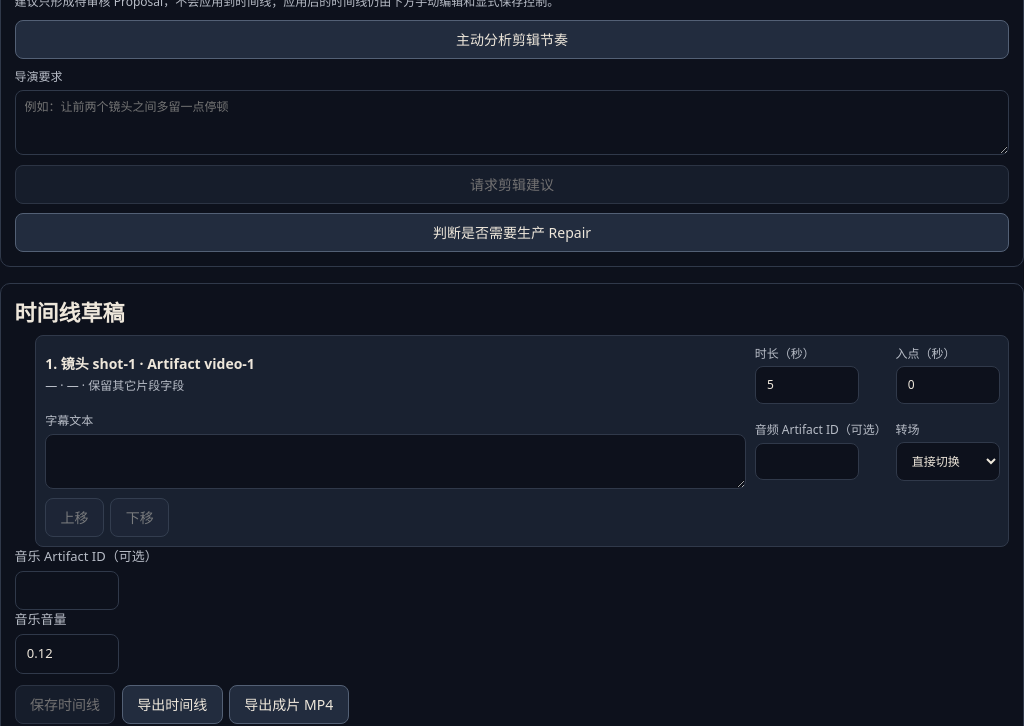
Scenario: refreshes the session summary after saving a new timeline version
This screenshot has width=1024, height=726.
(page scrolled)
Replace the text in the number field named "镜头 1 时长" with "4.5": (807, 385) [755,366,859,404]
(page scrolled)
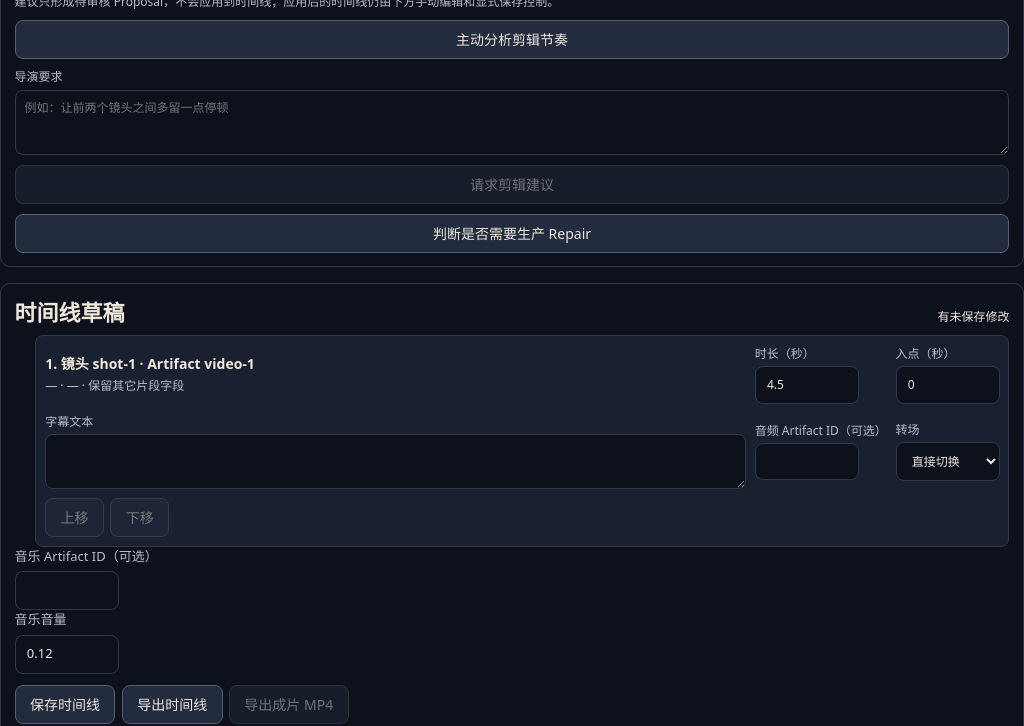
Click the button "保存时间线": (65, 704) [15,685,115,724]
(page scrolled)
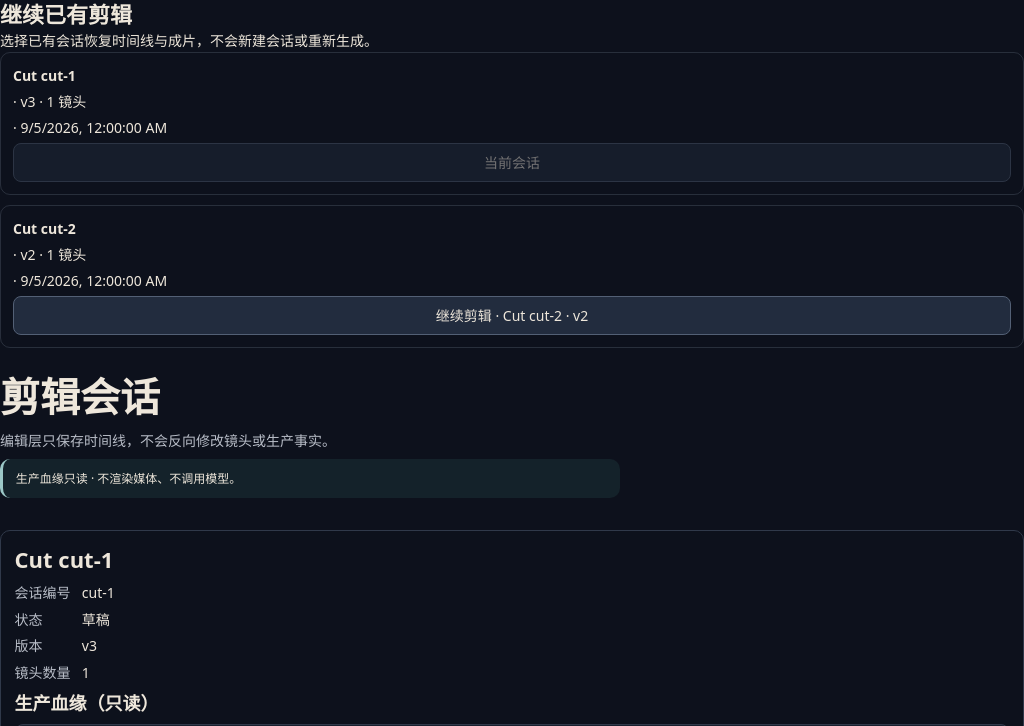
Check: the list item "Cut cut-1 · v3 · 1 镜头 · 9/5/2026, 12:00:00 AM 当前会话" is shown, box [0,52,1023,195]
